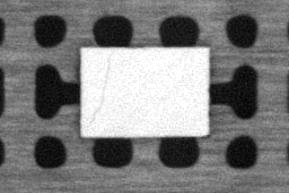DIE_CRACK: (88, 54, 111, 123)
